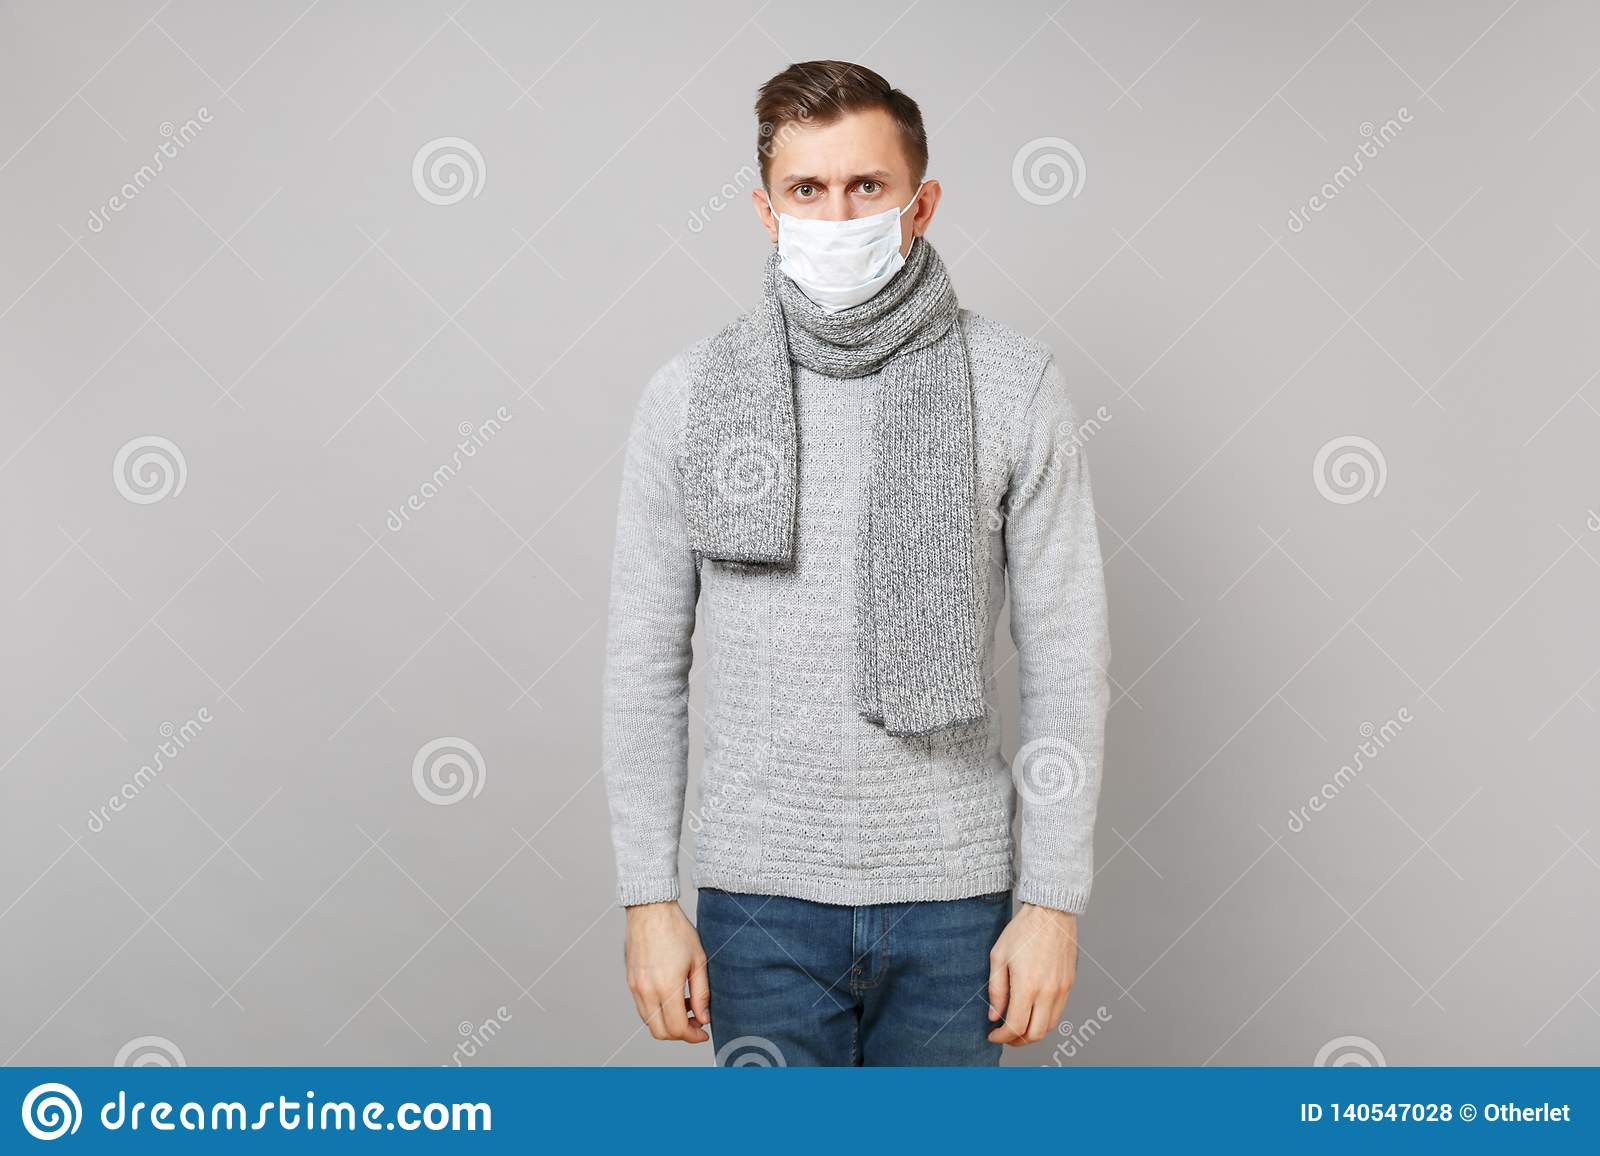mask: (774, 209, 911, 309)
